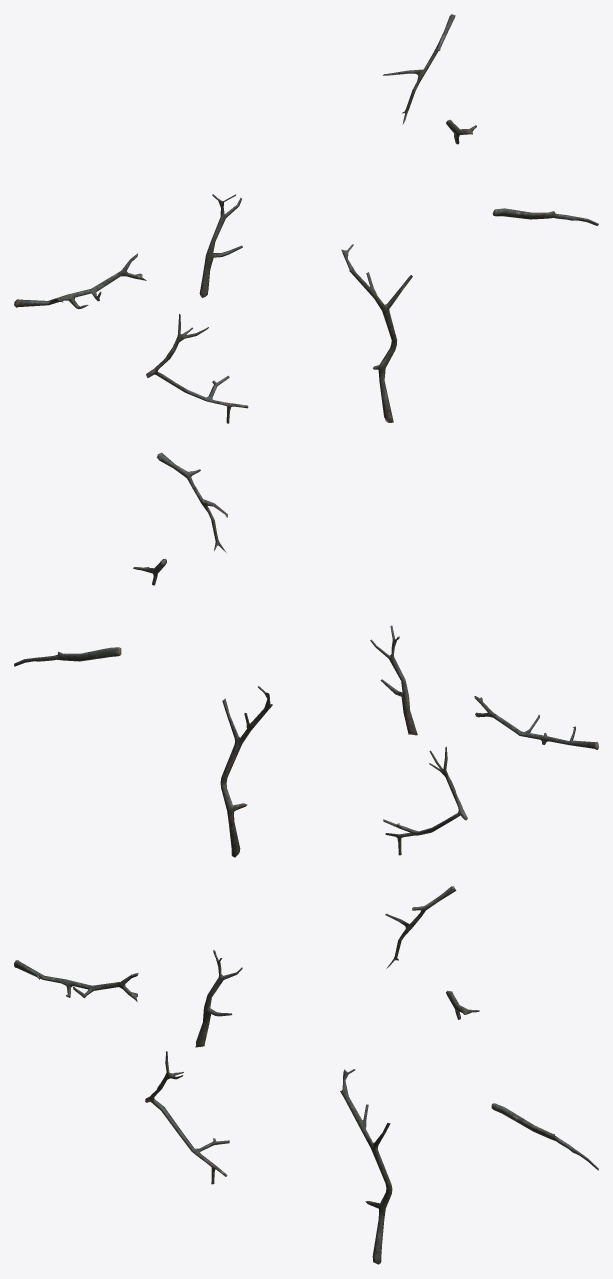
File: hd_dec_AM_005_BranchesSwamp_01.glb
The picture shows the model from 3 angles, top to bottom: view 1: azimuth 30°, elevation 25°; view 2: azimuth 150°, elevation 25°; view 3: azimuth 330°, elevation 25°; orthographic projection.
Parts seen in each view (by area): view 1: set_0_group_0; view 2: set_0_group_0; view 3: set_0_group_0.
Part boxes in pixels (<box>): set_0_group_0: <box>14,14,598,423</box>; set_0_group_0: <box>14,452,598,857</box>; set_0_group_0: <box>14,886,598,1264</box>.
Size of the model in its own units: 8.07 by 5.14 by 0.3981.
1 material, 1 textured.
